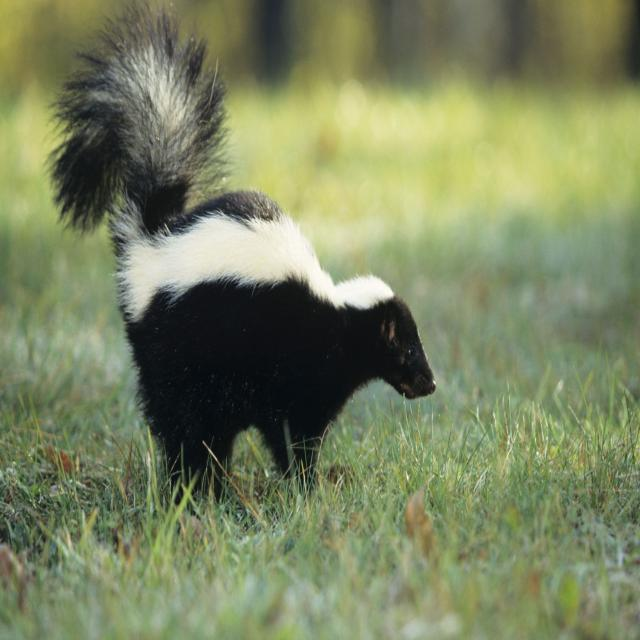Skunk: (21, 0, 453, 524)
